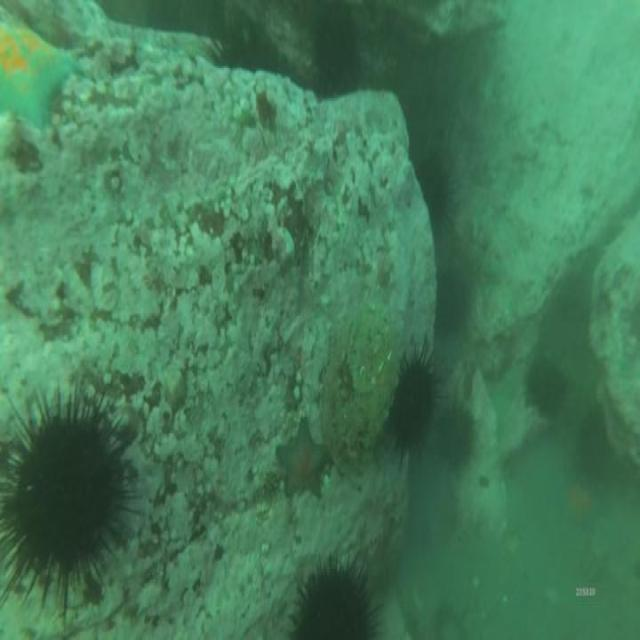echinus: (3, 411, 128, 592), (293, 564, 376, 640), (392, 351, 431, 452), (413, 155, 451, 234), (577, 403, 609, 482), (529, 352, 567, 418), (434, 265, 468, 335), (442, 402, 476, 472)
starfish: (2, 25, 74, 130), (275, 419, 327, 499), (564, 466, 602, 534)
